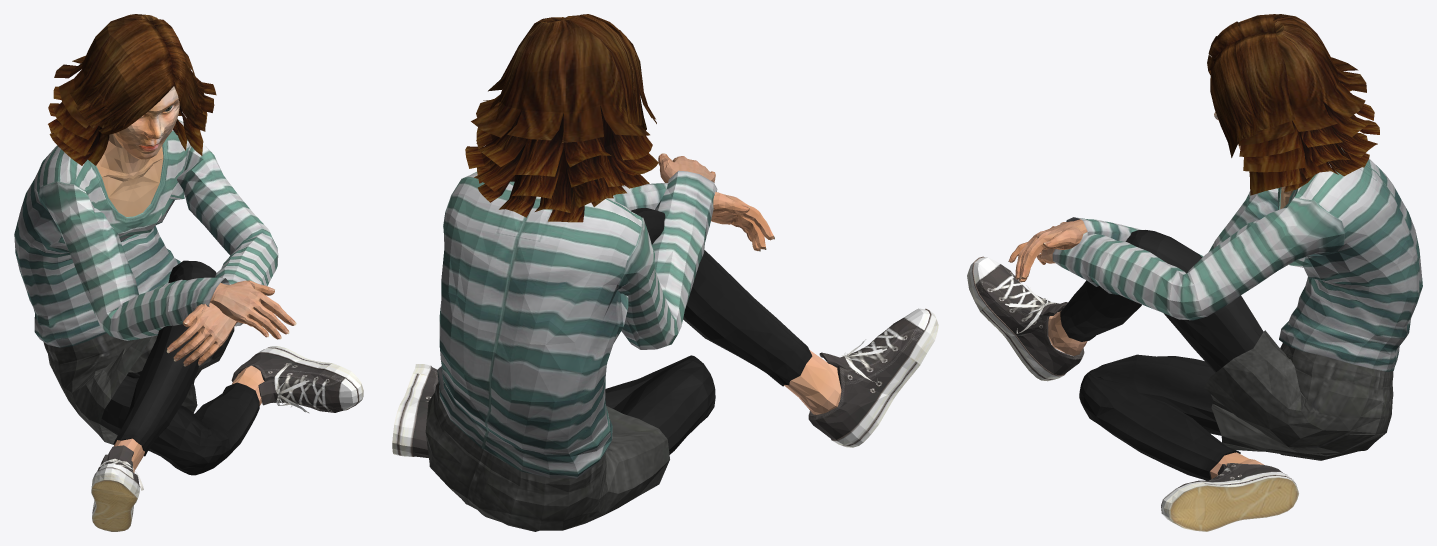
The model's file is sweethome3d-reallusion-sitting-girl-22.glb.
3 renders of one model, left to right at view 1: azimuth 30°, elevation 25°; view 2: azimuth 150°, elevation 25°; view 3: azimuth 270°, elevation 25°, orthographic. The views are drawn at different scales.
Visible parts, largest first — view 1: RL_Upper, RL_Lower, RL_HairMesh, RL_Shoes, RL_Hands, RL_Face; view 2: RL_Upper, RL_Lower, RL_HairMesh, RL_Shoes, RL_Hands; view 3: RL_Lower, RL_Upper, RL_HairMesh, RL_Shoes, RL_Hands.
Part boxes in pixels (box(x1,y1,x2,y2)): RL_Upper: box(14, 120, 278, 347); RL_Lower: box(43, 260, 264, 475); RL_HairMesh: box(48, 14, 216, 165); RL_Shoes: box(91, 346, 363, 531); RL_Hands: box(166, 280, 296, 366); RL_Face: box(113, 86, 179, 159); RL_Upper: box(437, 170, 717, 478); RL_Lower: box(425, 208, 841, 531); RL_HairMesh: box(465, 14, 658, 222); RL_Shoes: box(392, 308, 938, 457); RL_Hands: box(658, 153, 774, 251); RL_Lower: box(1048, 230, 1393, 480); RL_Upper: box(1052, 148, 1422, 371); RL_HairMesh: box(1207, 14, 1379, 195); RL_Shoes: box(967, 256, 1298, 531); RL_Hands: box(1008, 221, 1083, 282).
Bounding box in the file's own units: 70.62 × 77.45 × 74.45.
Materials: 10 (10 with a texture image).
